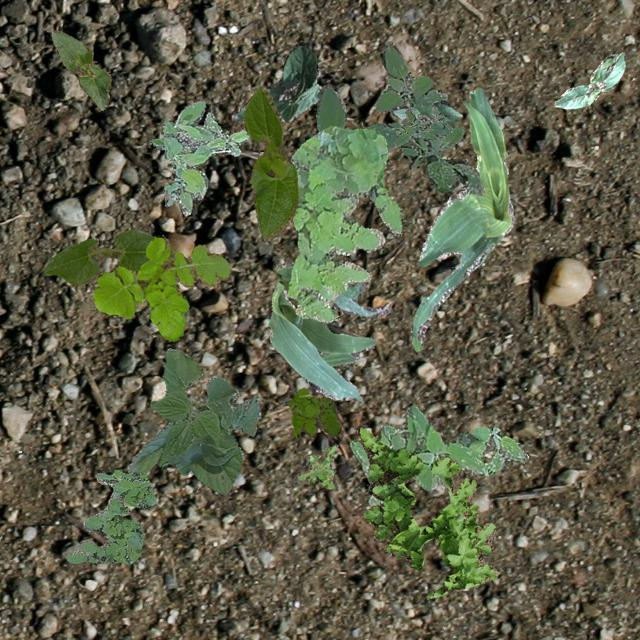crop: (410, 88, 512, 352), (128, 348, 260, 492), (268, 262, 390, 402), (242, 86, 298, 240), (44, 228, 174, 284), (230, 44, 320, 120), (50, 30, 110, 110), (554, 52, 626, 108), (388, 100, 462, 124)
weed: (314, 42, 482, 195), (356, 426, 496, 596), (286, 125, 401, 322), (348, 404, 528, 504), (92, 236, 230, 340), (148, 100, 248, 214), (64, 468, 154, 564), (288, 386, 340, 436), (394, 106, 452, 146), (296, 444, 336, 488)
